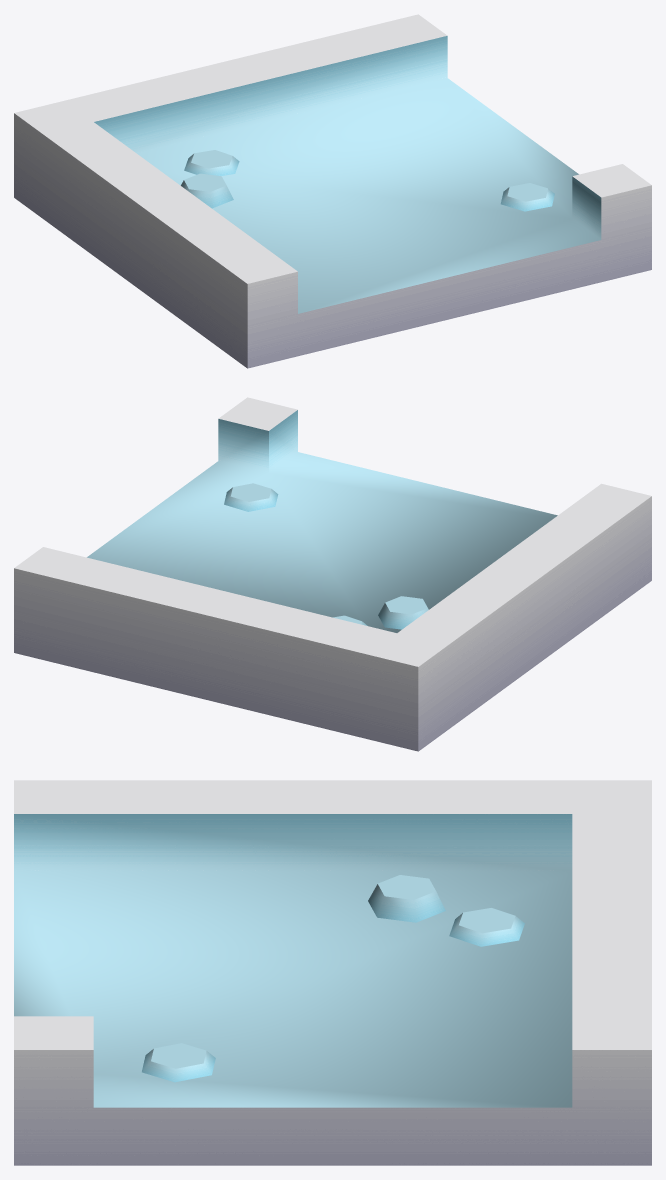
File: tower-defense-kit--snow-tile-corner-square.glb
3 views of the same model, one above another, from view 1: azimuth 30°, elevation 25°; view 2: azimuth 150°, elevation 25°; view 3: azimuth 270°, elevation 25° (orthographic). The views are drawn at different scales.
Parts seen in each view (by area): view 1: snow-tile-corner-square; view 2: snow-tile-corner-square; view 3: snow-tile-corner-square.
Part boxes in pixels (x1,y1,x2,y2): snow-tile-corner-square: (14,14,651,368); snow-tile-corner-square: (14,397,651,751); snow-tile-corner-square: (14,780,651,1165).
Size of the model in its own units: 1 by 0.2 by 1.
Materials: 1 (1 with a texture image).
